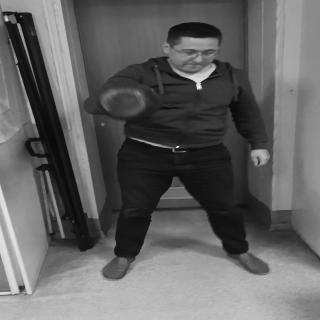kettlebell: (100, 85, 163, 122)
